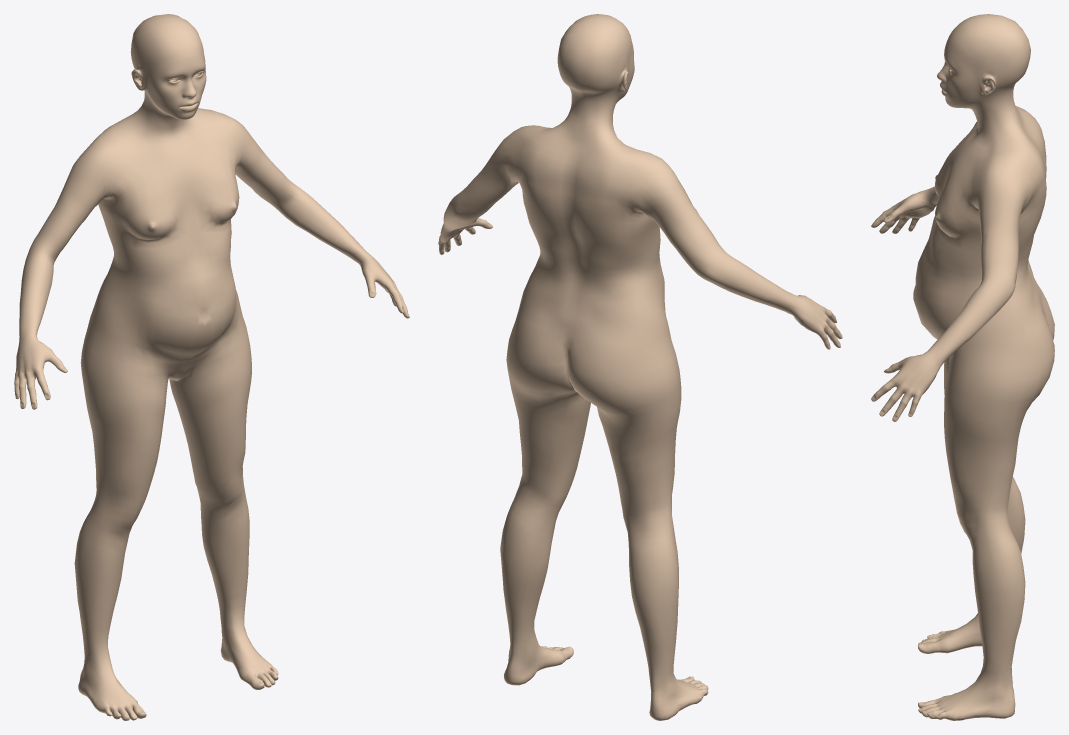
Rendered from female_Apple.glb.
3 views of the same model, side by side, from view 1: azimuth 30°, elevation 25°; view 2: azimuth 150°, elevation 25°; view 3: azimuth 270°, elevation 25° (orthographic). The views are drawn at different scales.
Visible parts, largest first — view 1: female_Apple; view 2: female_Apple; view 3: female_Apple.
Part boxes in pixels (x1,y1,x2,y2): female_Apple: (14,14,409,720); female_Apple: (438,14,842,720); female_Apple: (871,14,1054,720).
Bounding box in the file's own units: 0.9189 × 1.5 × 0.3771.
